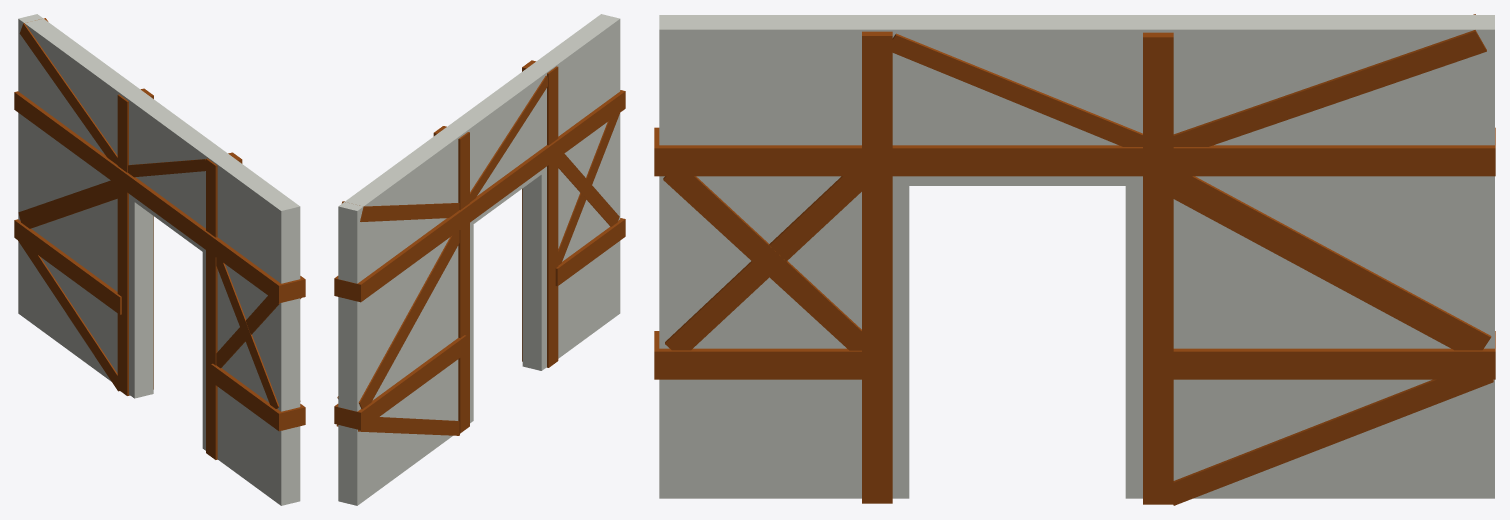
The model's file is OneDoorWall3.fbx.
3 renders of one model, left to right at view 1: azimuth 30°, elevation 25°; view 2: azimuth 150°, elevation 25°; view 3: azimuth 270°, elevation 25°, orthographic. The views are drawn at different scales.
Parts seen in each view (by area): view 1: OneDoorWall3; view 2: OneDoorWall3; view 3: OneDoorWall3.
Boxes of the visible parts, x1=… form: OneDoorWall3: x1=14, y1=14, x2=305, y2=505; OneDoorWall3: x1=334, y1=14, x2=625, y2=505; OneDoorWall3: x1=654, y1=14, x2=1495, y2=505.
Size of the model in its own units: 113 by 1124 by 1806.
